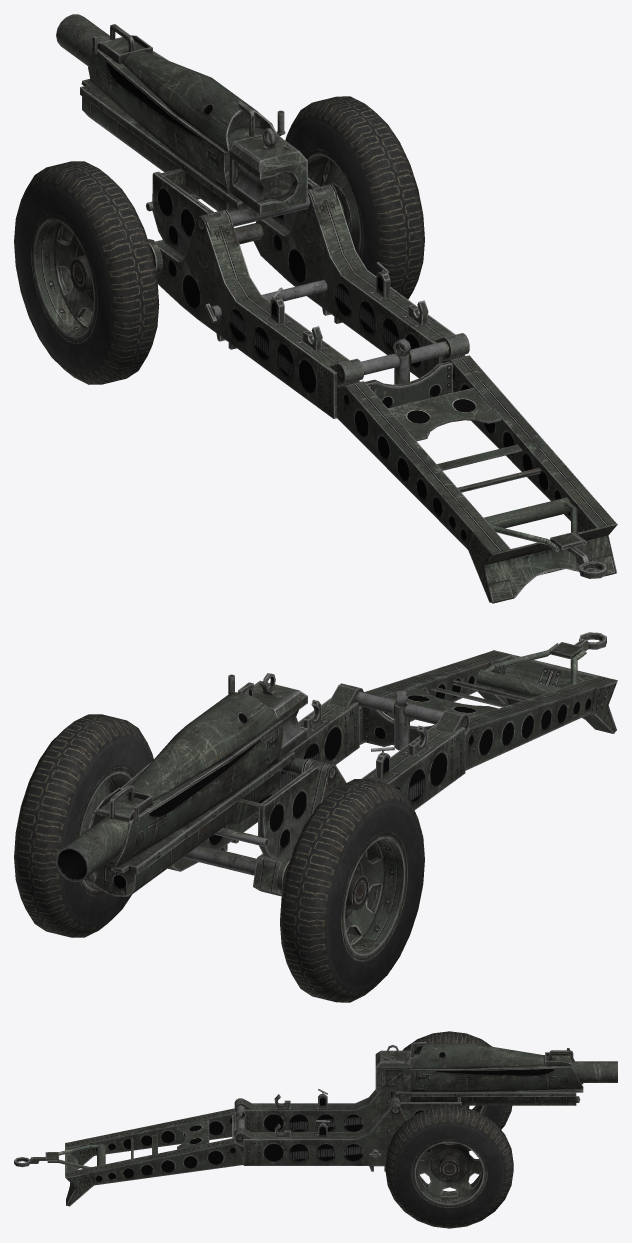
The model's file is howitzer.glb.
3 views of the same model, one above another, from view 1: azimuth 30°, elevation 25°; view 2: azimuth 150°, elevation 25°; view 3: azimuth 270°, elevation 25° (orthographic). The views are drawn at different scales.
Visible parts, largest first — view 1: g (×4); view 2: g (×4); view 3: g (×4).
Part boxes in pixels (left/top/right/bottom): g (×4): left=14, top=14, right=617, bottom=603; g (×4): left=14, top=632, right=617, bottom=1002; g (×4): left=14, top=1031, right=617, bottom=1228.
Bounding box in the file's own units: 0.6781 × 0.5363 × 2.
1 material, 1 textured.
